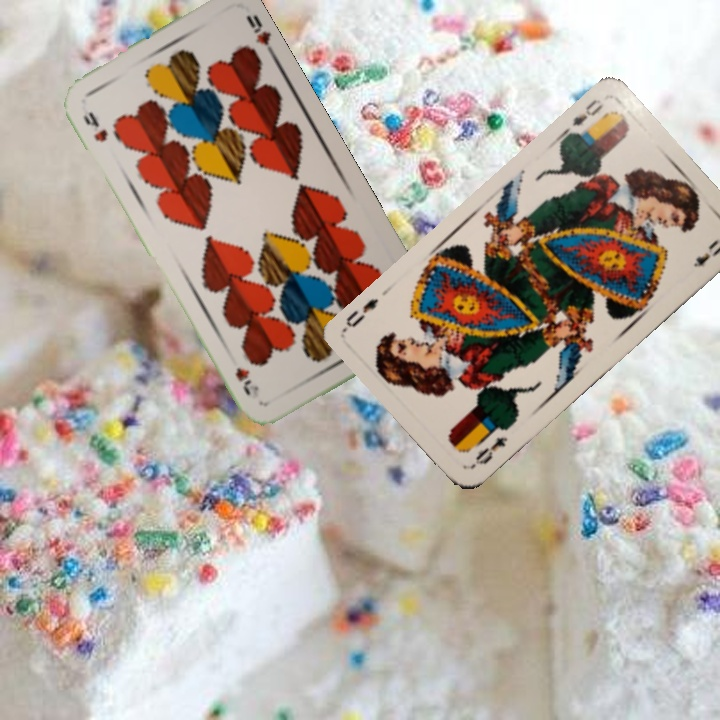EO: (559, 95, 607, 140), (467, 432, 511, 471)
H9: (78, 107, 111, 145)
